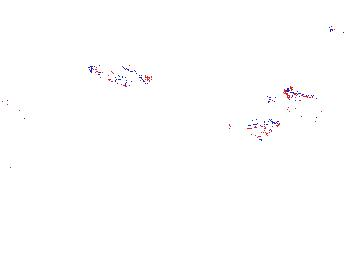glassfish: (2, 91, 56, 139), (227, 117, 282, 141)
red belly glassfish: (286, 82, 318, 103)
redtail glassfish: (265, 93, 325, 130), (86, 62, 154, 91), (326, 18, 346, 37)
